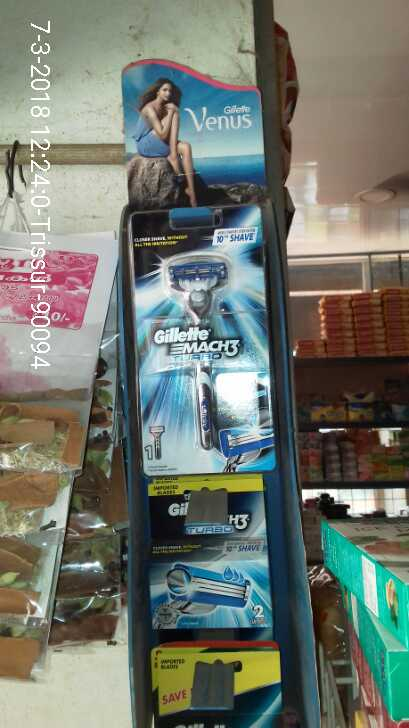gillette: (135, 206, 280, 470), (146, 483, 271, 630)
